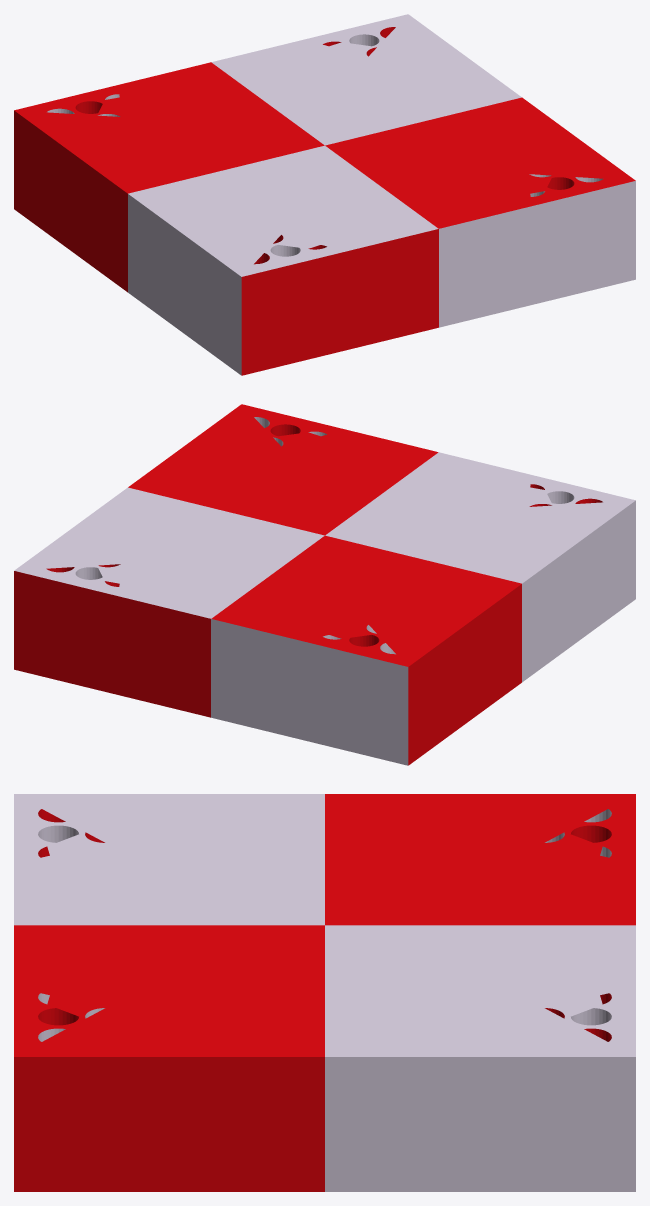
The model's file is balltoss1.fbx.
3 renders of one model, top to bottom at view 1: azimuth 30°, elevation 25°; view 2: azimuth 150°, elevation 25°; view 3: azimuth 270°, elevation 25°, orthographic. The views are drawn at different scales.
Visible parts, largest first — view 1: Cube.042; view 2: Cube.042; view 3: Cube.042.
Boxes of the visible parts, left/top/right/bottom form: Cube.042: left=14, top=14, right=635, bottom=375; Cube.042: left=14, top=404, right=635, bottom=765; Cube.042: left=14, top=794, right=635, bottom=1191.
Size of the model in its own units: 200 by 47.91 by 200.
